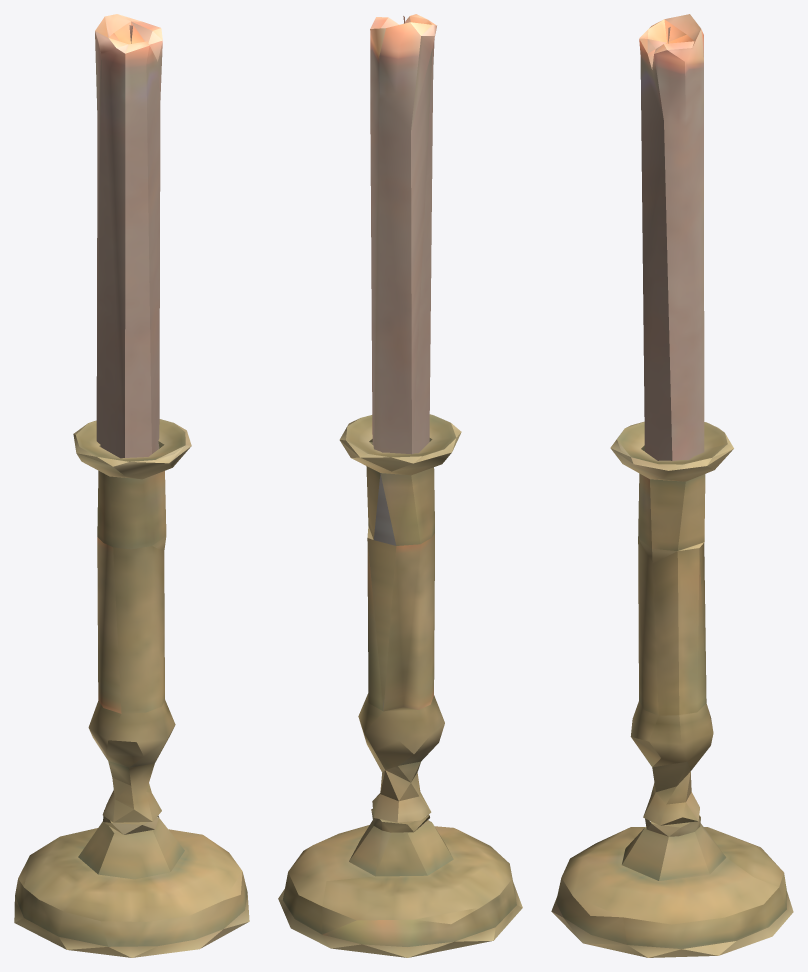
Rendered from candlestick-brass-e.lod1.glb.
3 views of the same model, side by side, from view 1: azimuth 30°, elevation 25°; view 2: azimuth 150°, elevation 25°; view 3: azimuth 270°, elevation 25° (orthographic).
Visible parts, largest first — view 1: candlestick-brass-e; view 2: candlestick-brass-e; view 3: candlestick-brass-e.
Boxes of the visible parts, x1,y1,x2,y2 form: candlestick-brass-e: [14, 14, 249, 957]; candlestick-brass-e: [278, 14, 522, 957]; candlestick-brass-e: [551, 14, 793, 957].
Size of the model in its own units: 0.0797 by 0.3255 by 0.0807.
Materials: 1 (1 with a texture image).
